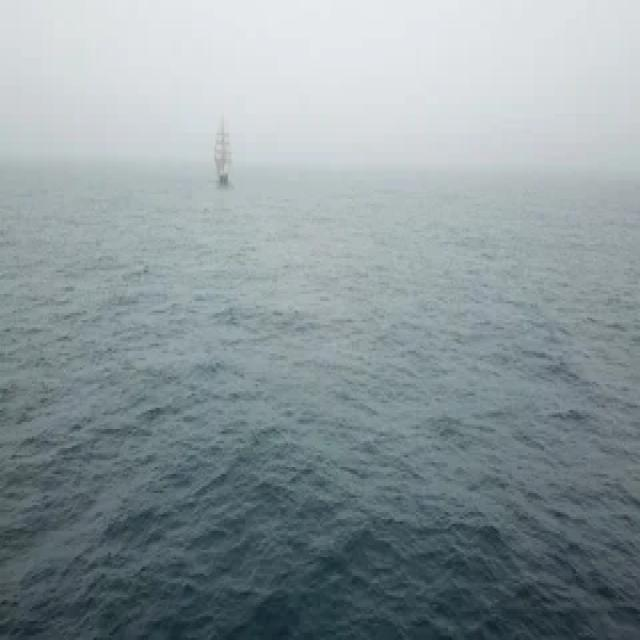fishing boat: (214, 124, 237, 192)
